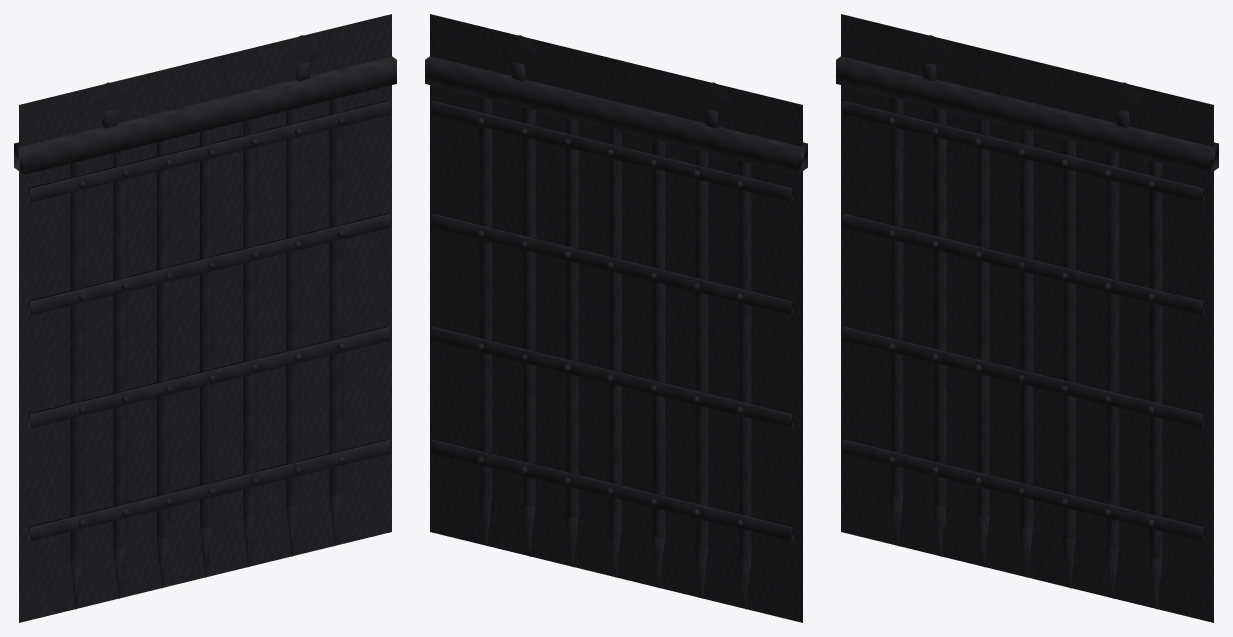
File: Portcullis_HeavyIron_MultiLOD.glb
3 views of the same model, side by side, from view 1: azimuth 30°, elevation 25°; view 2: azimuth 150°, elevation 25°; view 3: azimuth 330°, elevation 25° (orthographic).
Visible parts, largest first — view 1: Portcullis_HeavyIron_Impostor, Portcullis_HeavyIron_LOD0; view 2: Portcullis_HeavyIron_Impostor, Portcullis_HeavyIron_LOD0; view 3: Portcullis_HeavyIron_Impostor, Portcullis_HeavyIron_LOD0.
Boxes of the visible parts, left/top/right/bottom form: Portcullis_HeavyIron_Impostor: left=19, top=14, right=391, bottom=622; Portcullis_HeavyIron_LOD0: left=14, top=35, right=396, bottom=609; Portcullis_HeavyIron_Impostor: left=430, top=14, right=802, bottom=622; Portcullis_HeavyIron_LOD0: left=425, top=35, right=807, bottom=609; Portcullis_HeavyIron_Impostor: left=841, top=14, right=1213, bottom=622; Portcullis_HeavyIron_LOD0: left=836, top=35, right=1218, bottom=609.
Size of what is drawn, in the model's own units: 2.59 by 3.44 by 0.1915.
Materials: 1 (1 with a texture image).
